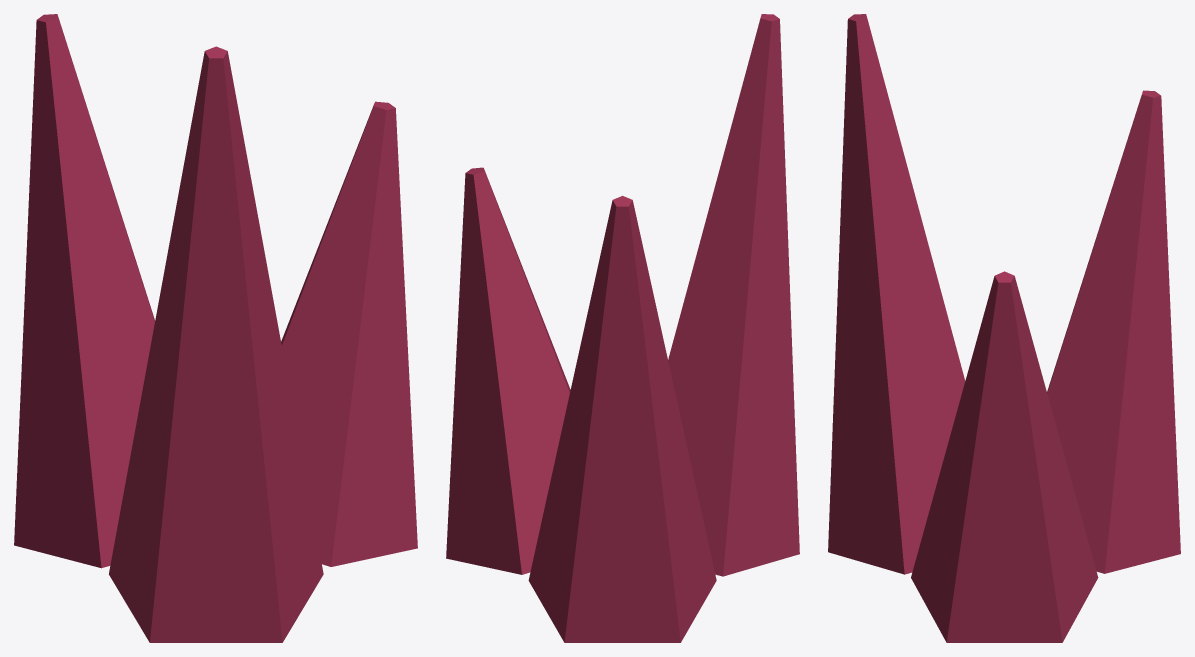
The model's file is pg_growth.fbx.
3 renders of one model, left to right at view 1: azimuth 30°, elevation 25°; view 2: azimuth 150°, elevation 25°; view 3: azimuth 270°, elevation 25°, orthographic. The views are drawn at different scales.
Parts seen in each view (by area): view 1: GEO-Growth.002, GEO-Growth.001, GEO-Growth; view 2: GEO-Growth.001, GEO-Growth.002, GEO-Growth; view 3: GEO-Growth.002, GEO-Growth, GEO-Growth.001.
Part boxes in pixels (x1,y1,x2,y2): GEO-Growth.002: (109,46,323,642); GEO-Growth.001: (14,14,154,568); GEO-Growth: (281,101,417,566); GEO-Growth.001: (528,195,716,642); GEO-Growth.002: (668,14,799,576); GEO-Growth: (446,167,570,574); GEO-Growth.002: (828,14,965,574); GEO-Growth: (911,271,1098,642); GEO-Growth.001: (1047,90,1180,573).
Bounding box in the file's own units: 44.43 × 81.43 × 50.14.
